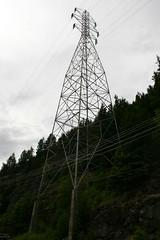power_tower: (32, 5, 134, 240)
